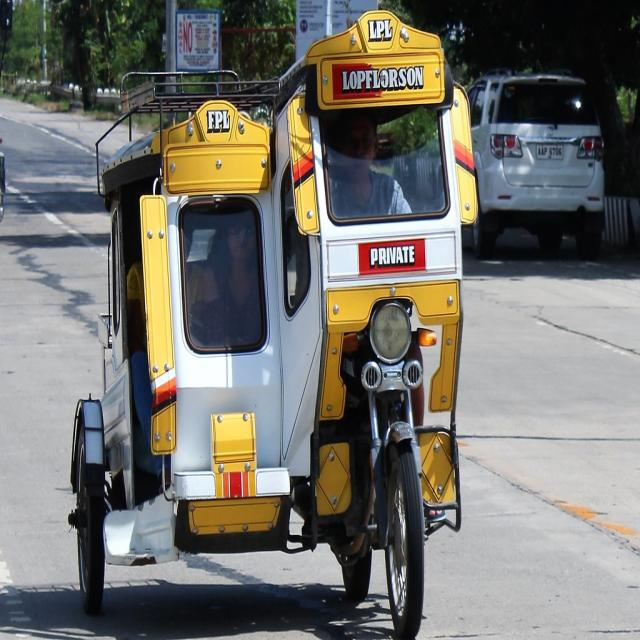Vehicle: (62, 11, 476, 640), (469, 74, 610, 258)
